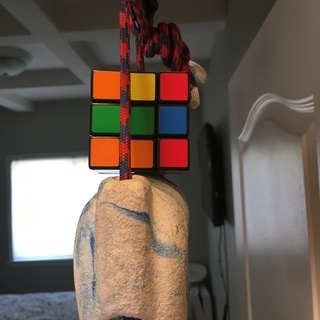face: (89, 70, 190, 173)
